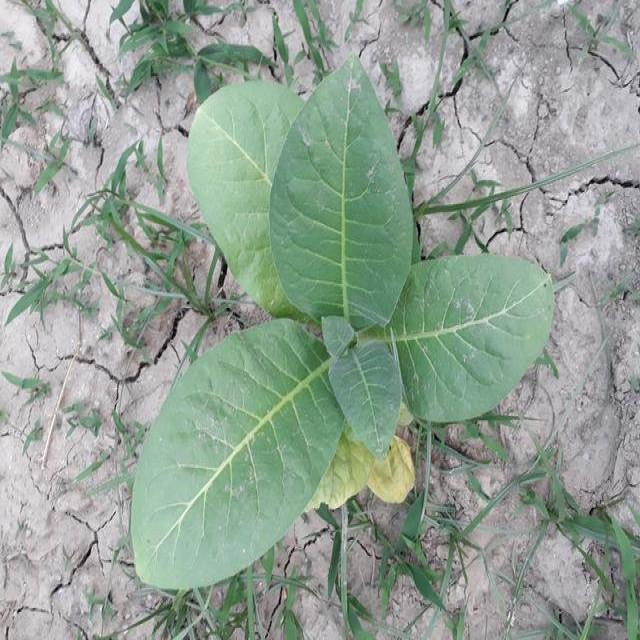crop: (131, 52, 555, 592)
